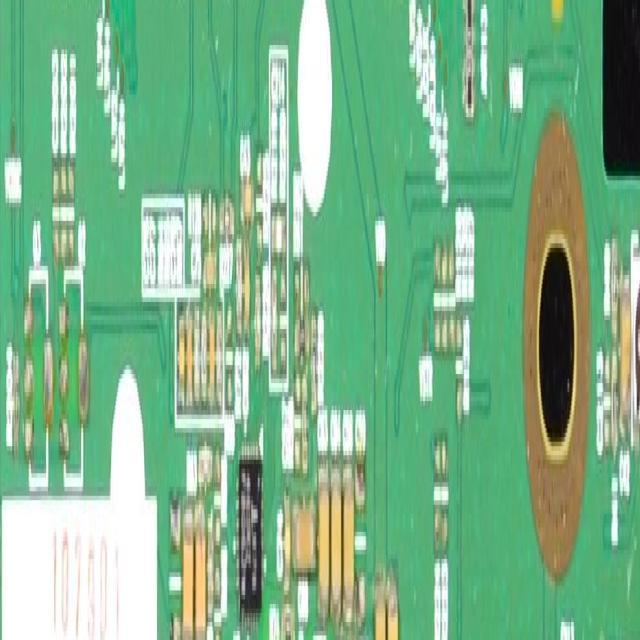IC: (236, 442, 264, 626)
capacitor: (620, 266, 631, 439), (318, 464, 330, 622), (331, 464, 342, 624), (292, 505, 316, 576), (344, 464, 354, 624), (183, 509, 193, 640), (195, 509, 205, 640), (68, 158, 75, 270), (387, 577, 399, 640), (244, 239, 251, 338), (374, 577, 385, 640), (240, 176, 254, 224), (208, 306, 214, 411), (53, 162, 59, 265), (284, 496, 290, 598), (186, 306, 192, 404), (178, 316, 184, 414), (604, 352, 610, 448), (61, 158, 66, 272), (205, 248, 217, 288)
resistor: (441, 442, 448, 552), (294, 365, 301, 469), (434, 248, 441, 348), (12, 352, 19, 452), (612, 356, 618, 460), (434, 442, 440, 546), (612, 239, 618, 341), (236, 239, 242, 341), (220, 203, 235, 243), (217, 306, 223, 404), (194, 306, 200, 402), (258, 144, 263, 259), (214, 518, 220, 610), (203, 198, 216, 240), (442, 248, 447, 348), (302, 378, 307, 478), (202, 311, 207, 406), (456, 320, 461, 414), (256, 280, 261, 364), (198, 456, 212, 486), (281, 613, 296, 640), (228, 316, 232, 414), (208, 523, 212, 620), (312, 320, 316, 414), (450, 257, 454, 347)
